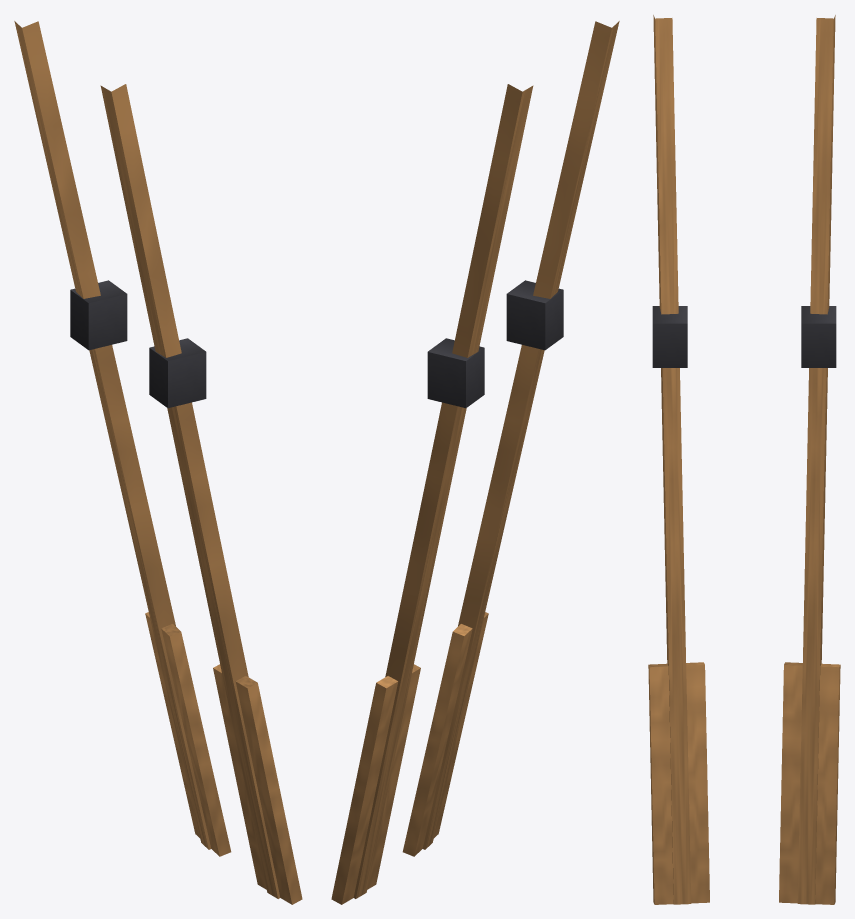
The model's file is prop_oars_01.glb.
3 renders of one model, left to right at view 1: azimuth 30°, elevation 25°; view 2: azimuth 150°, elevation 25°; view 3: azimuth 270°, elevation 25°, orthographic. The views are drawn at different scales.
Visible parts, largest first — view 1: prop_oars_01; view 2: prop_oars_01; view 3: prop_oars_01.
Boxes of the visible parts, x1,y1,x2,y2 form: prop_oars_01: (14,21,302,904); prop_oars_01: (331,21,619,904); prop_oars_01: (648,15,840,904).
Size of the model in its own units: 0.6035 by 2.56 by 0.5516.
Materials: 1 (1 with a texture image).
